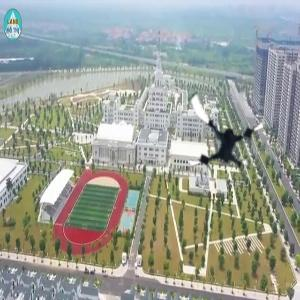drone: (174, 85, 271, 182)
